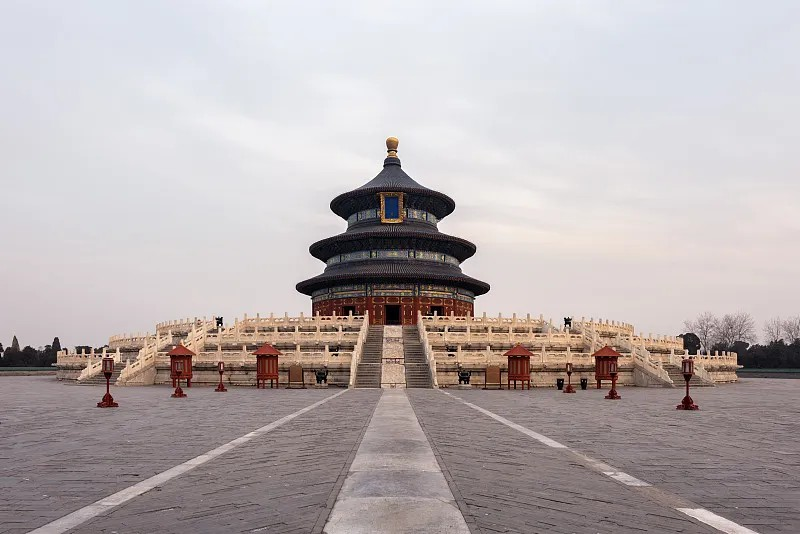Heaven: (295, 137, 491, 325)
